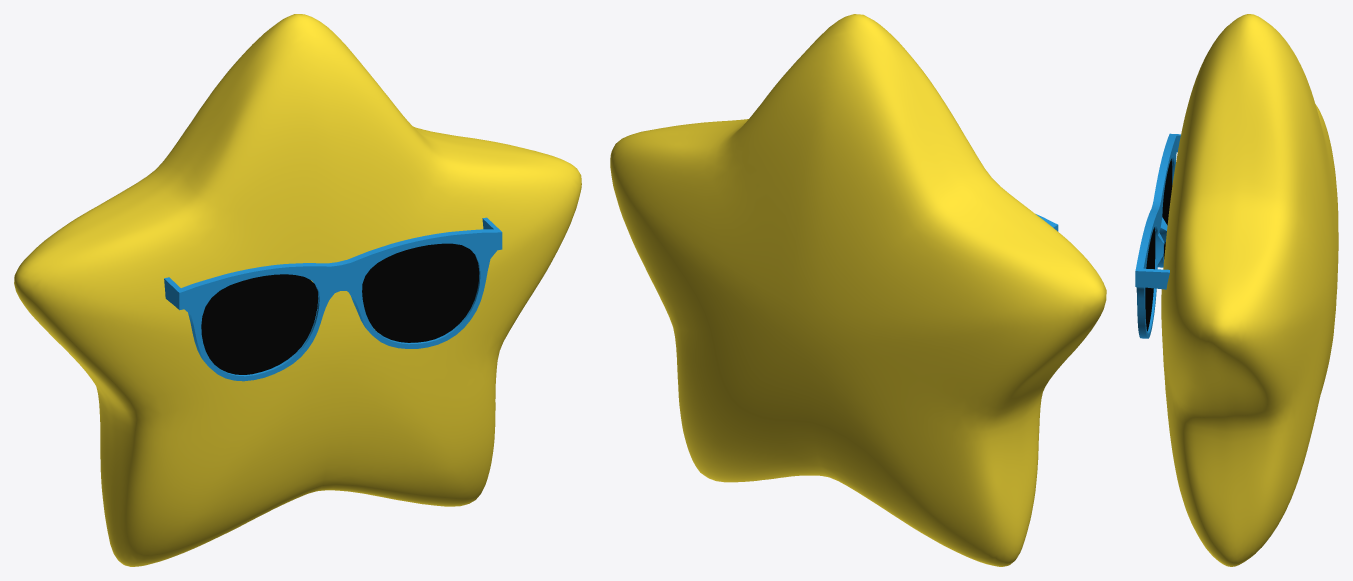
The picture shows the model from 3 angles, left to right: view 1: azimuth 30°, elevation 25°; view 2: azimuth 150°, elevation 25°; view 3: azimuth 270°, elevation 25°; orthographic projection. The views are drawn at different scales.
Parts seen in each view (by area): view 1: star_2, star_1, star_0; view 2: star_2; view 3: star_2, star_0, star_1.
Boxes of the visible parts, left/top/right/bottom form: star_2: left=14, top=14, right=581, bottom=566; star_1: left=201, top=243, right=479, bottom=374; star_0: left=164, top=217, right=502, bottom=381; star_2: left=610, top=14, right=1106, bottom=566; star_2: left=1161, top=14, right=1338, bottom=566; star_0: left=1135, top=133, right=1180, bottom=338; star_1: left=1145, top=159, right=1172, bottom=331.
Bounding box in the file's own units: 0.2266 × 0.2113 × 0.0811.
